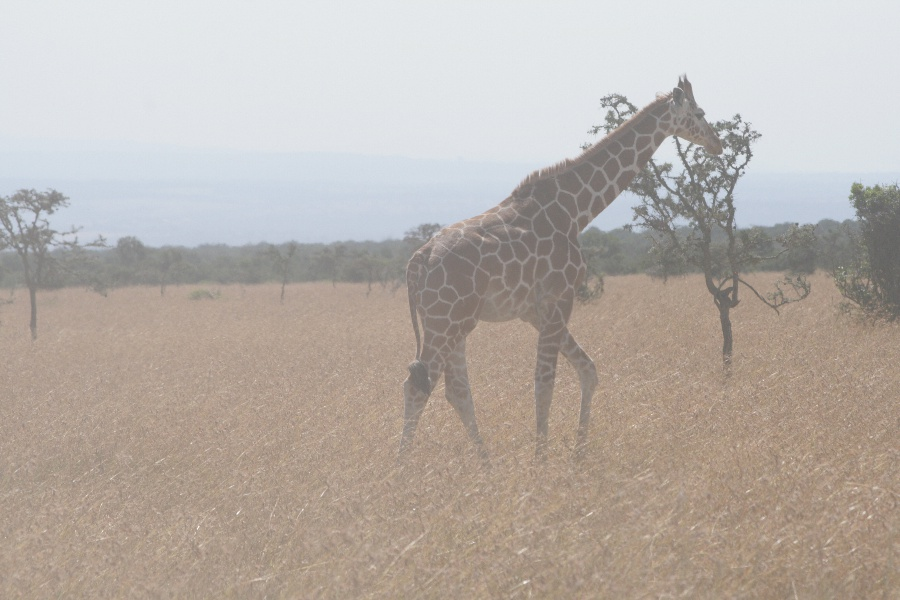giraffe: (370, 64, 741, 481)
